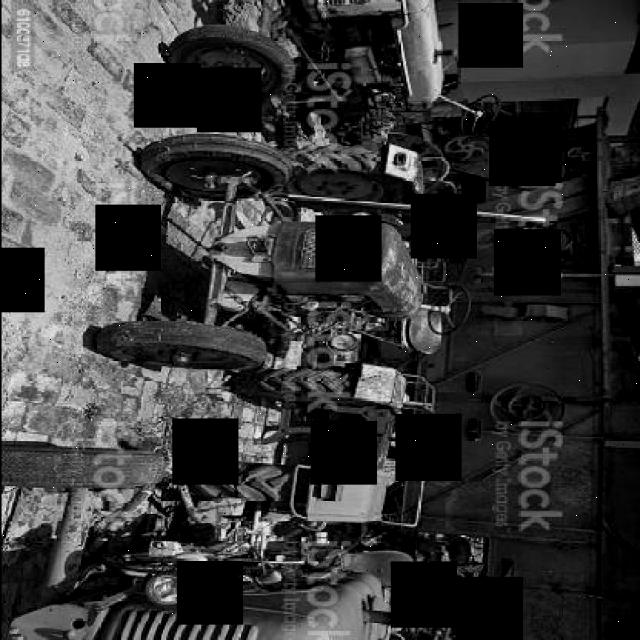Tratores - v5 YOLO V8L 2024-11-13: (1, 126, 528, 429), (3, 444, 449, 640), (109, 0, 522, 208)
